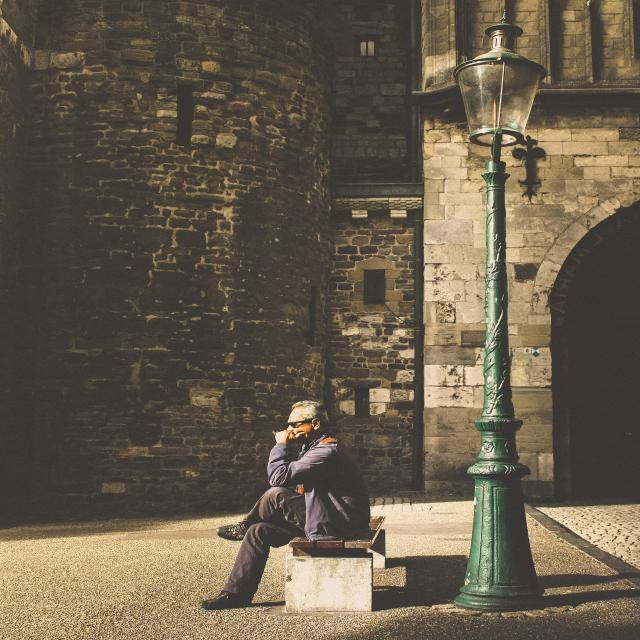adult: (198, 397, 373, 610)
